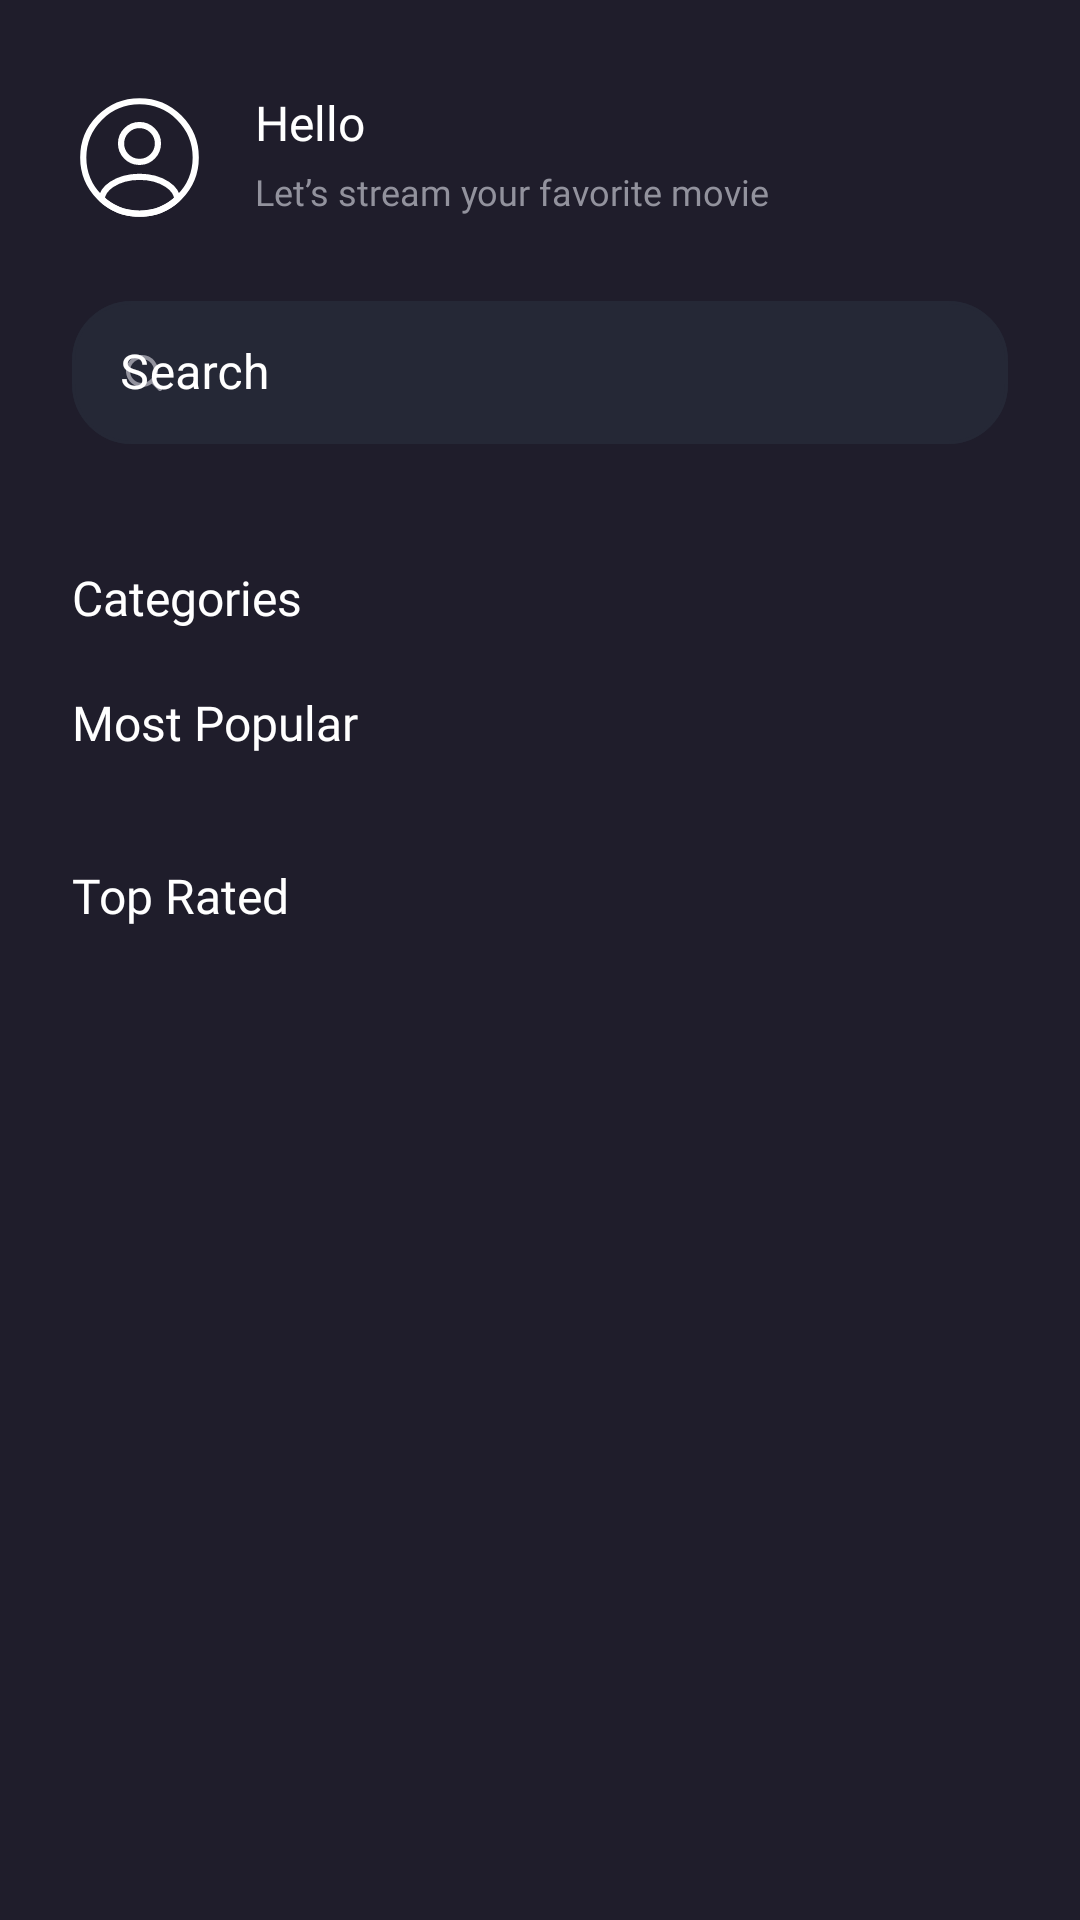

Named icons in this screenshot (1080w x 1920h) and their centers, (x,y):
profile circle: (139,157)
